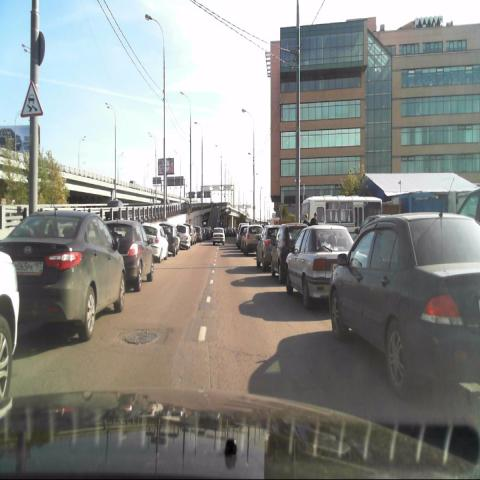1_15: (18, 81, 44, 117)
